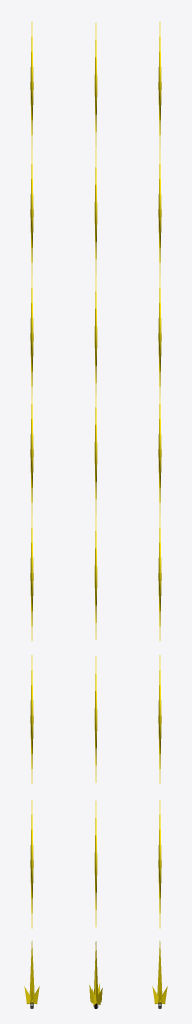
The model's file is Wea_Gun1_on.FBX.
3 renders of one model, left to right at view 1: azimuth 90°, elevation 25°; view 2: azimuth 150°, elevation 25°; view 3: azimuth 270°, elevation 25°, orthographic.
Visible parts, largest first — view 1: Box001; view 2: Box001; view 3: Box001.
Part boxes in pixels (x1,y1,x2,y2): Box001: (24, 22, 39, 1008); Box001: (89, 23, 102, 1008); Box001: (152, 22, 167, 1008).
Size of the model in its own units: 1.94 by 138 by 1.94.
